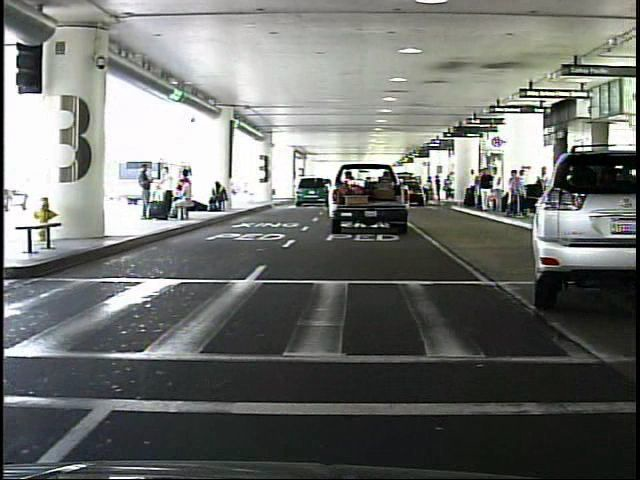person: (135, 162, 157, 223), (479, 167, 497, 216), (491, 166, 505, 216), (433, 172, 444, 204)
